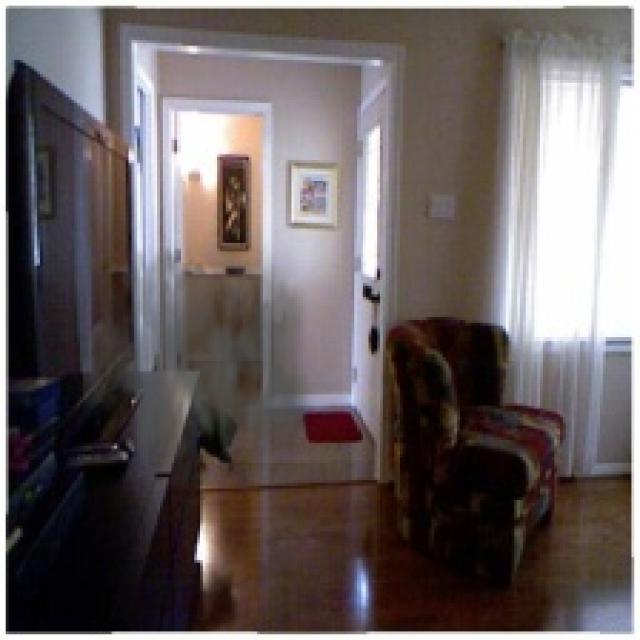smoke: (83, 214, 323, 486)
